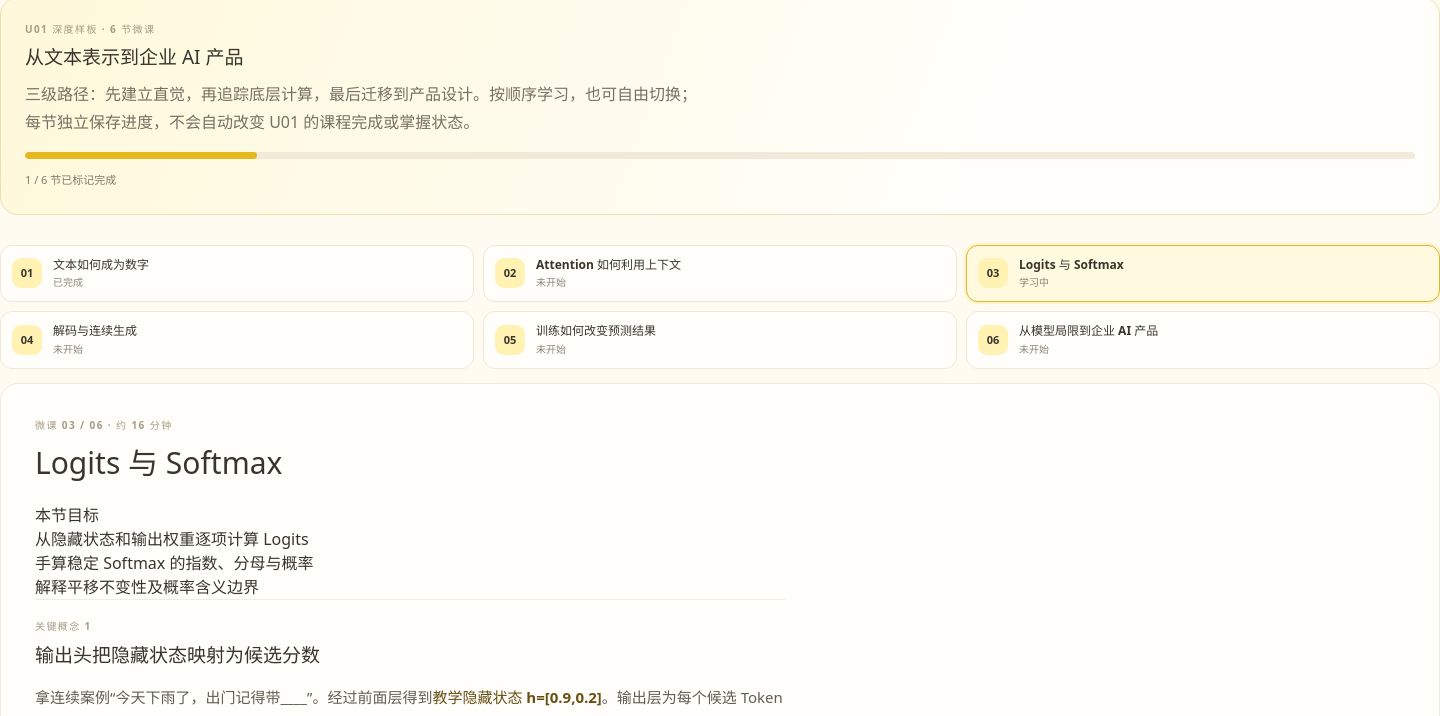
Test: U01 micro-lesson experience › grades independent logits and probabilities using an absolute numeric tolerance
The width and height of the screenshot is (1440, 716).
Click the button "03 Logits 与 Softmax 学习中". click: x=1071, y=264
box: [966,244,1439,302]
(page scrolled)
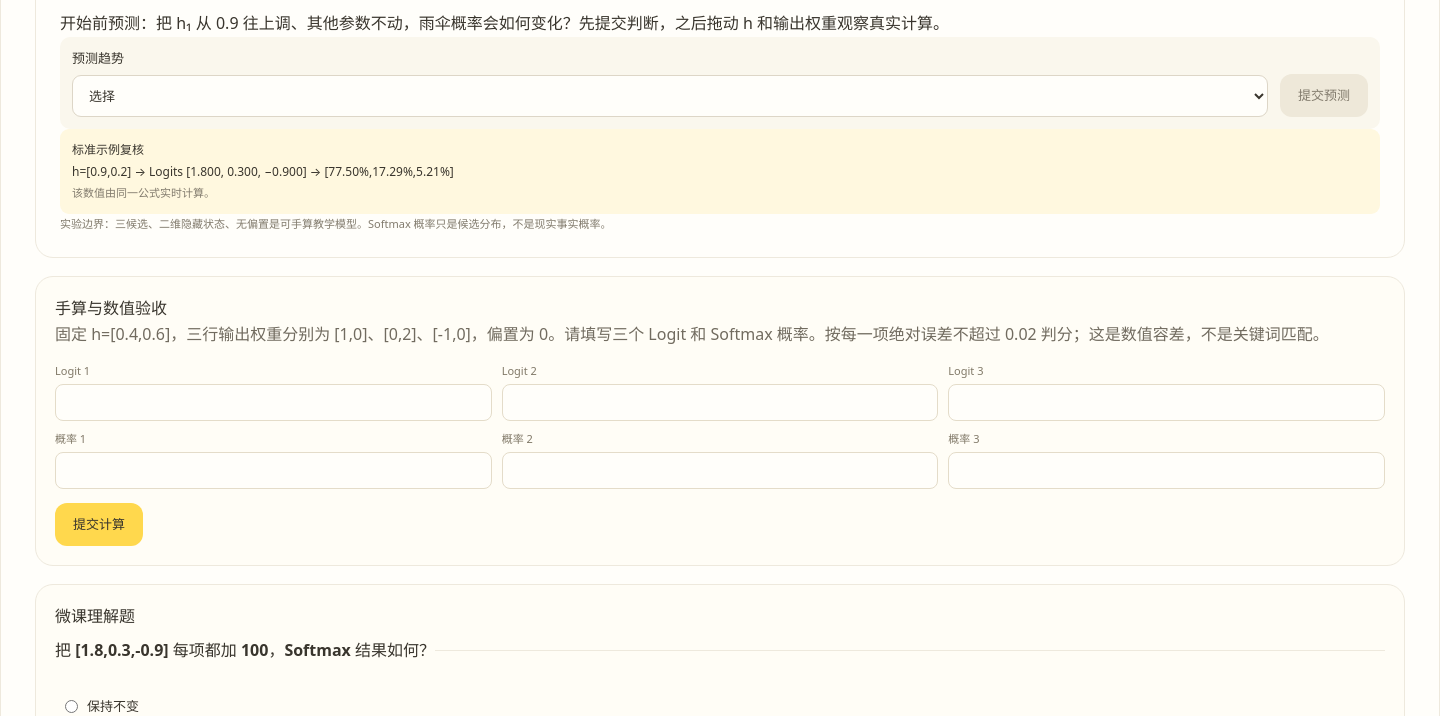
Type "0.4" into the number field labelled "Logit 1". click: x=273, y=402
box: [55,384,492,421]
Type "1.2" into the number field labelled "Logit 2". click: x=720, y=402
box: [502,384,938,421]
Type "-0.4" into the number field labelled "Logit 3". click: x=1167, y=402
box: [948,384,1385,421]
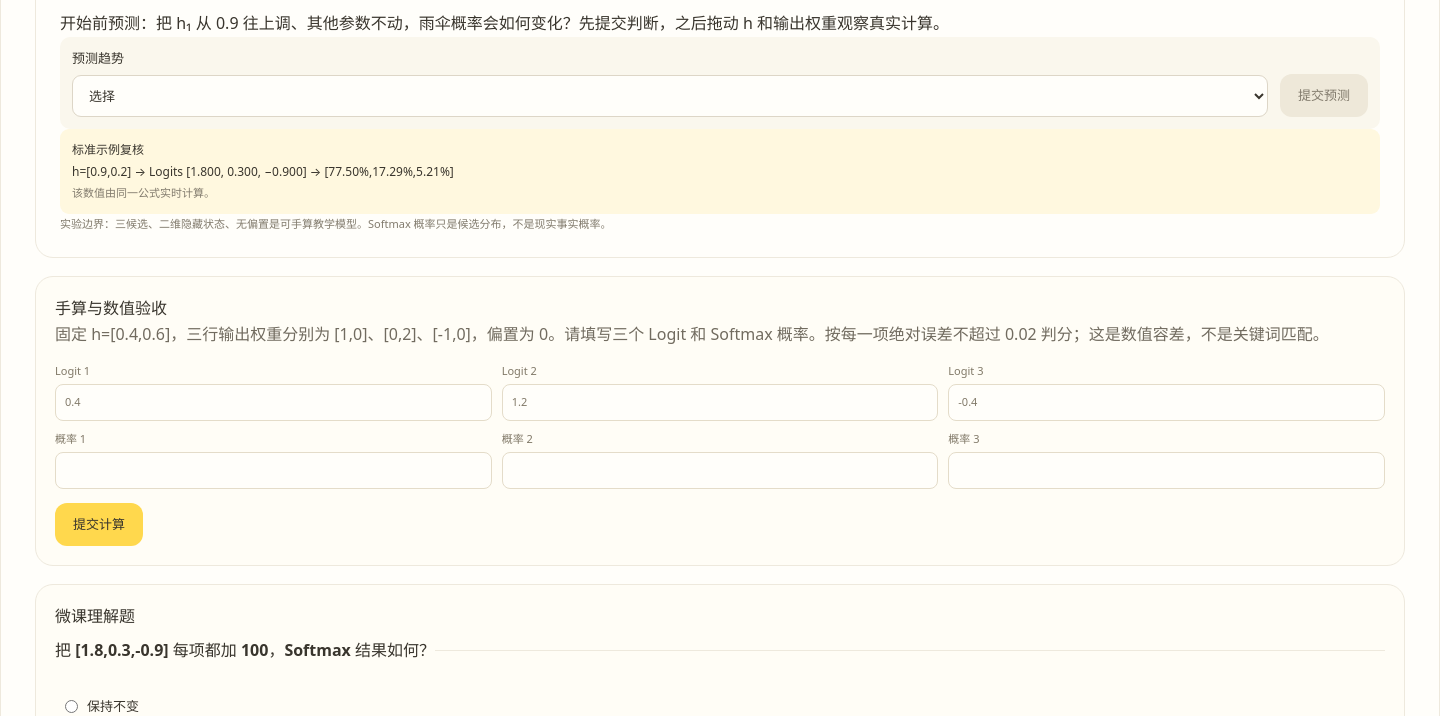
Type "0.2721" into the number field labelled "概率 1". click: x=273, y=470
box: [55,452,492,489]
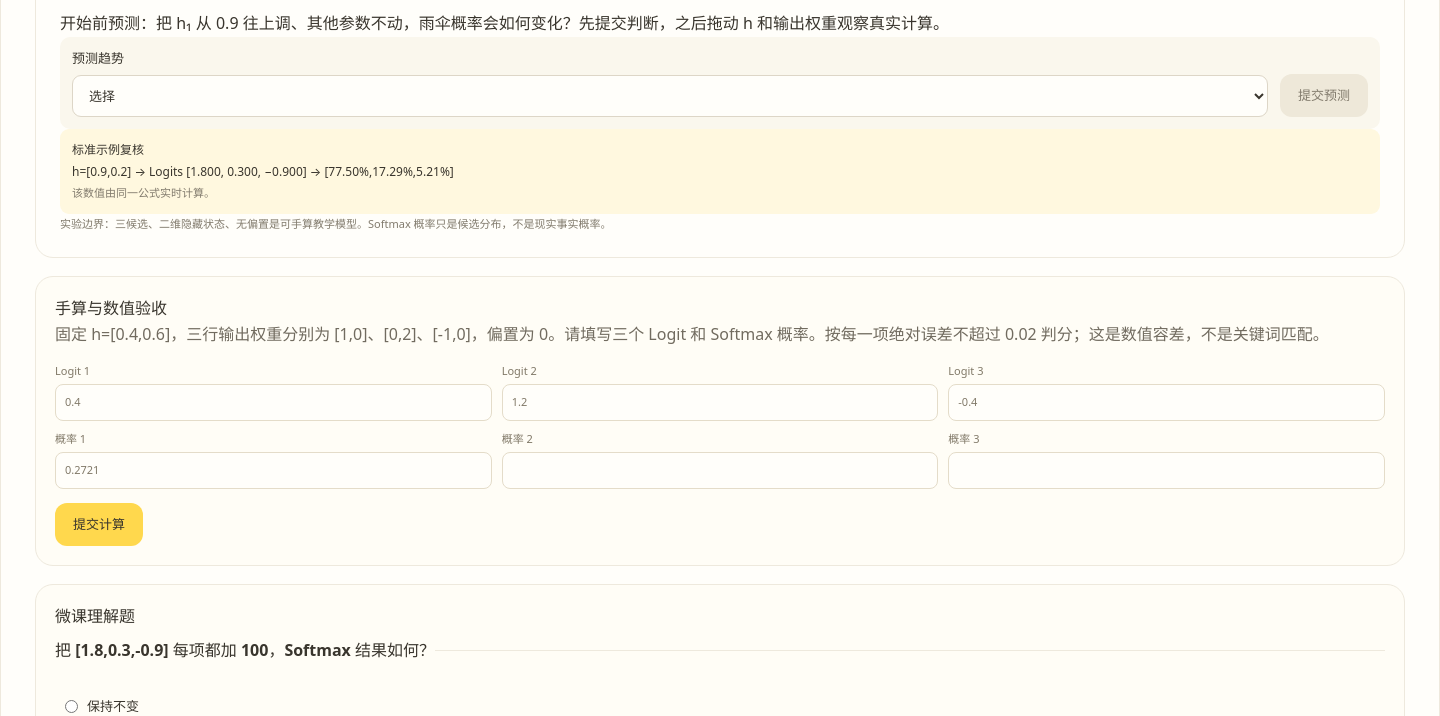
Type "0.6056" into the number field labelled "概率 2". click: x=720, y=470
box: [502,452,938,489]
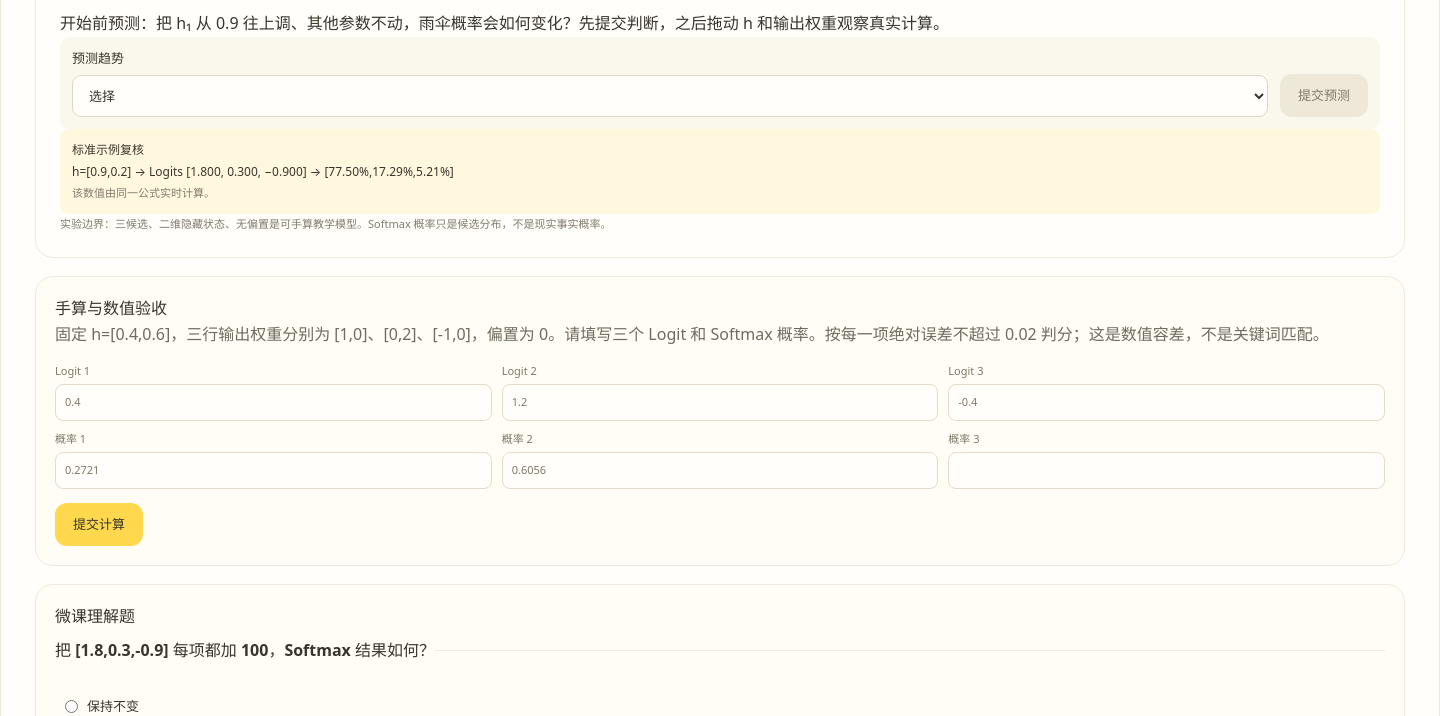
Type "0.1223" into the number field labelled "概率 3". click: x=1167, y=470
box: [948,452,1385,489]
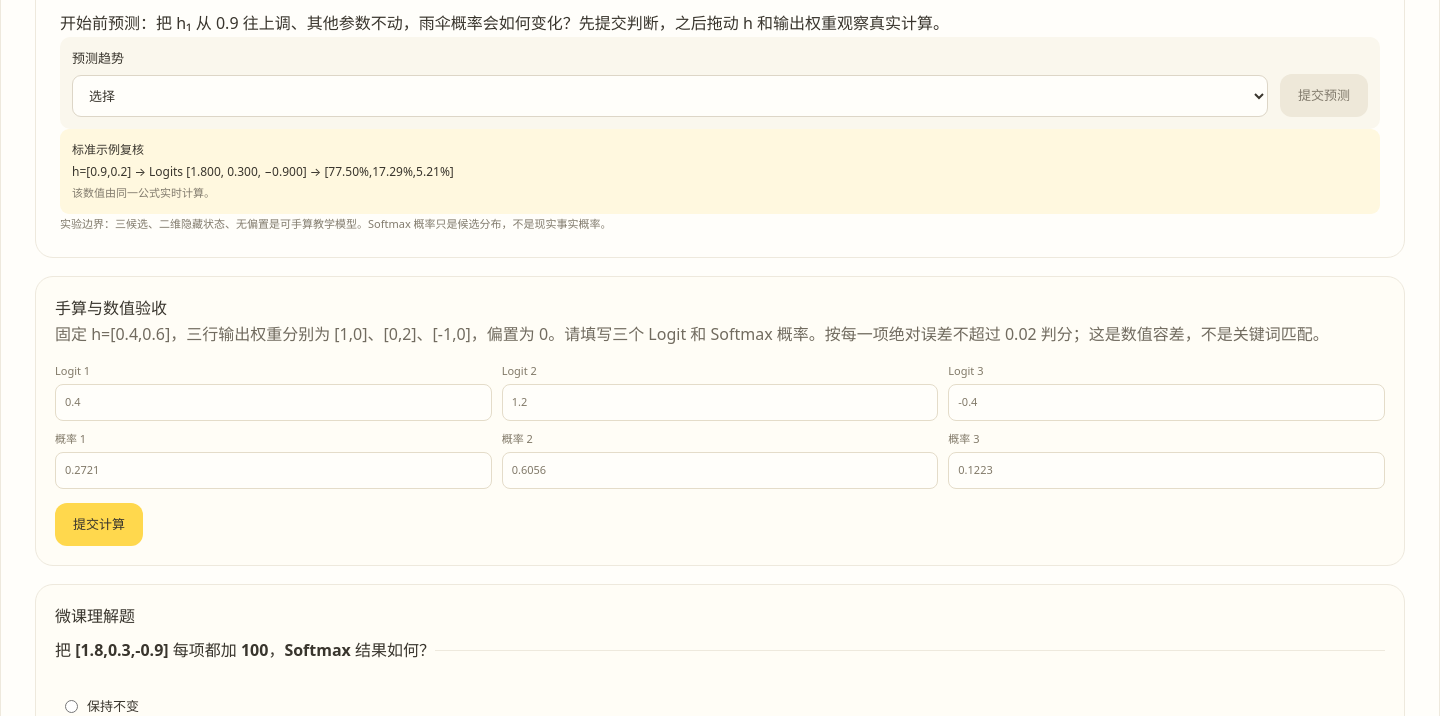
Click the button "提交计算". click: x=99, y=524
box: [55,503,143,546]
(page scrolled)
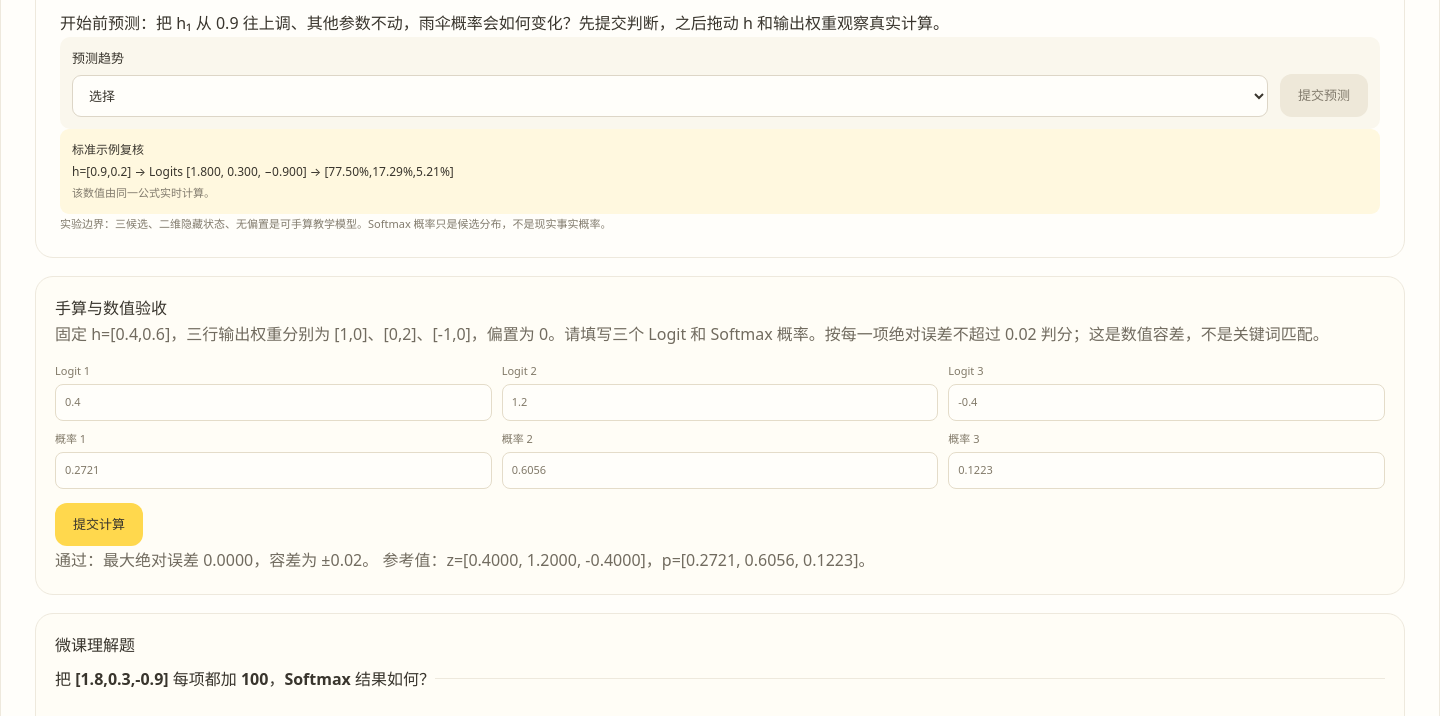
Check: the text "通过：最大绝对误差" is shown, box [55,549,378,571]
